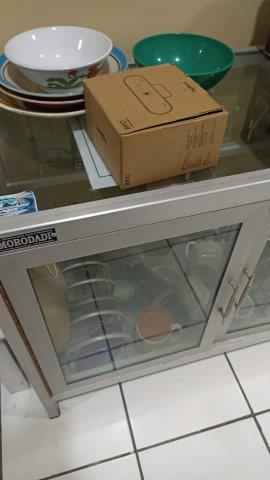kardus: (82, 64, 228, 189)
